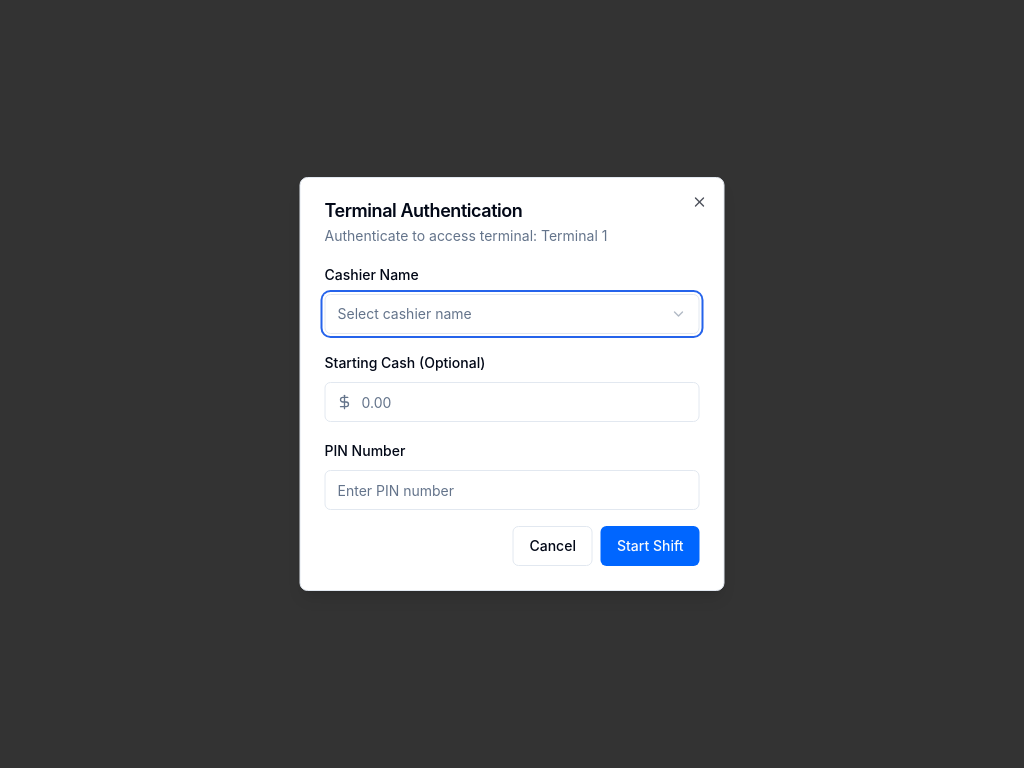
Test: 4.9-COMPONENT: TerminalAuthModal Component › [P1] 4.9-COMPONENT-015: should validate that PIN number is required
// Cashier name is selected but PIN is not entered
What coordinates should you click on to do the following:
click the dropdown with test id "cashier-name-select"
I would click on:
 (405, 314)
Its box is x1=324 y1=294 x2=700 y2=334.
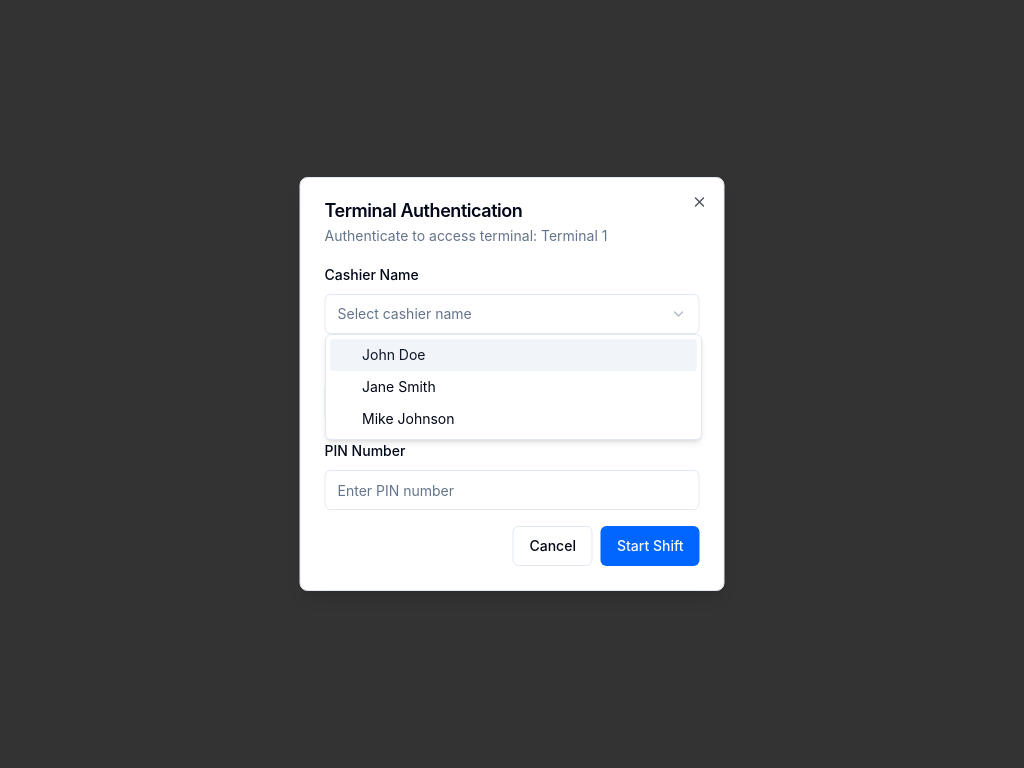
Result: the option "John Doe" is shown
What coordinates should you click on to do the following:
click the option "John Doe"
I would click on:
 (394, 354)
Its box is x1=330 y1=339 x2=697 y2=371.
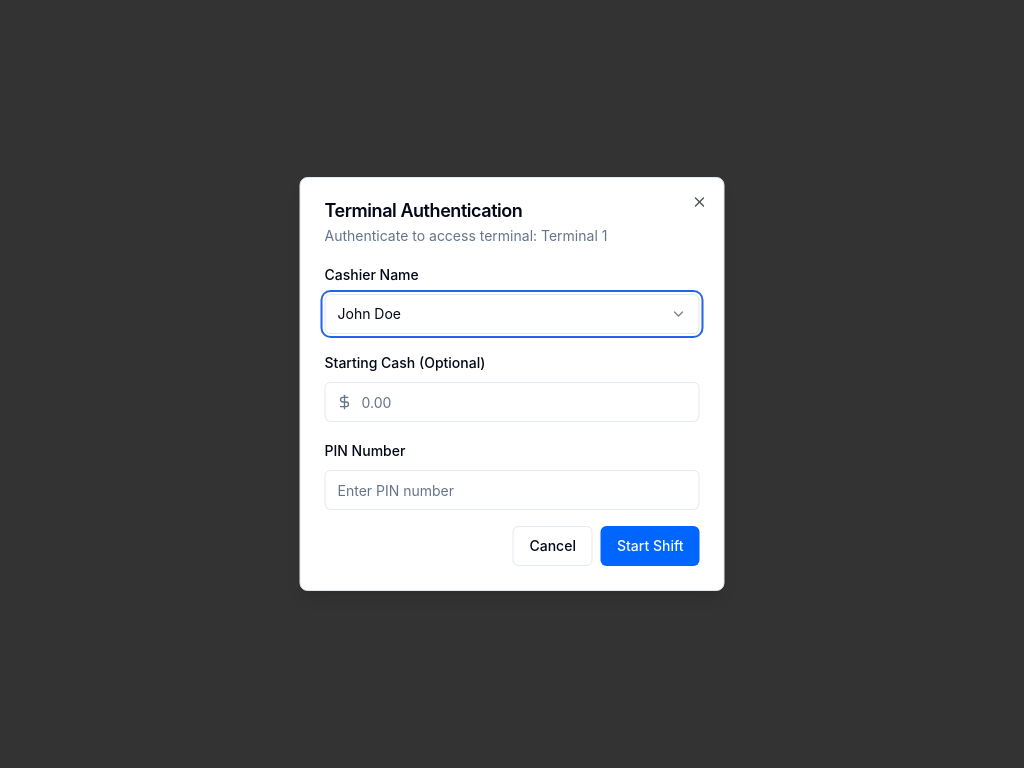
// Form is submitted without PIN
What coordinates should you click on to do the following:
click the button with test id "terminal-auth-submit-button"
I would click on:
 (650, 546)
Its box is x1=601 y1=526 x2=700 y2=566.
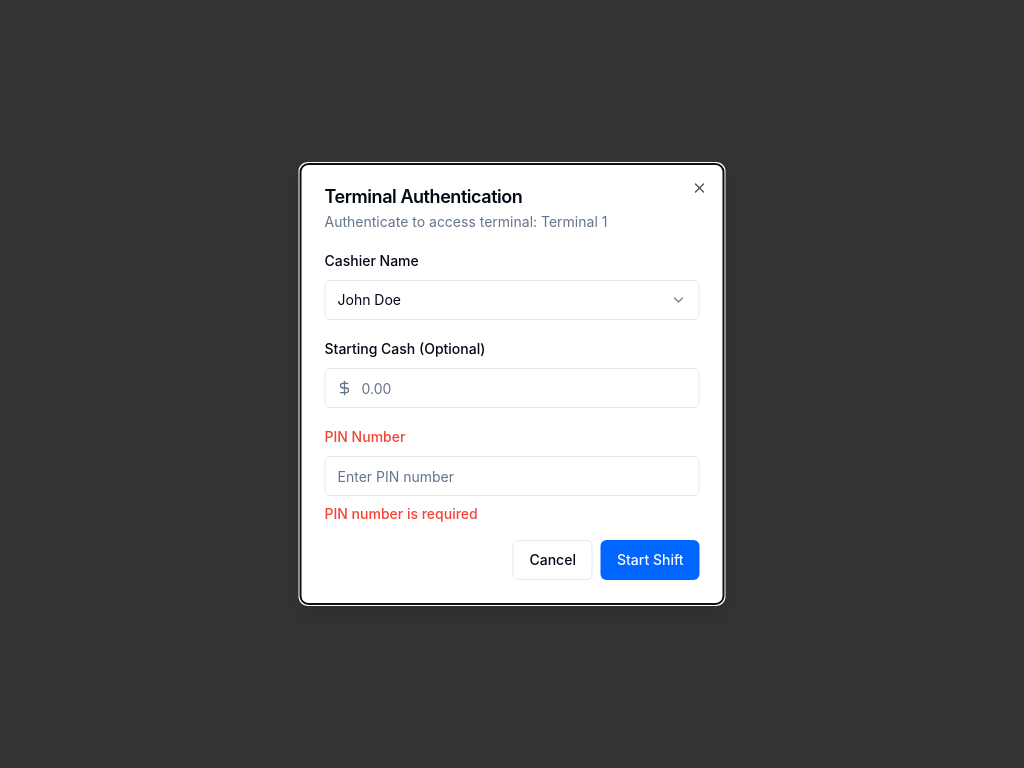
Result: the text "PIN number is required" is shown at x1=324 y1=505 x2=478 y2=522
